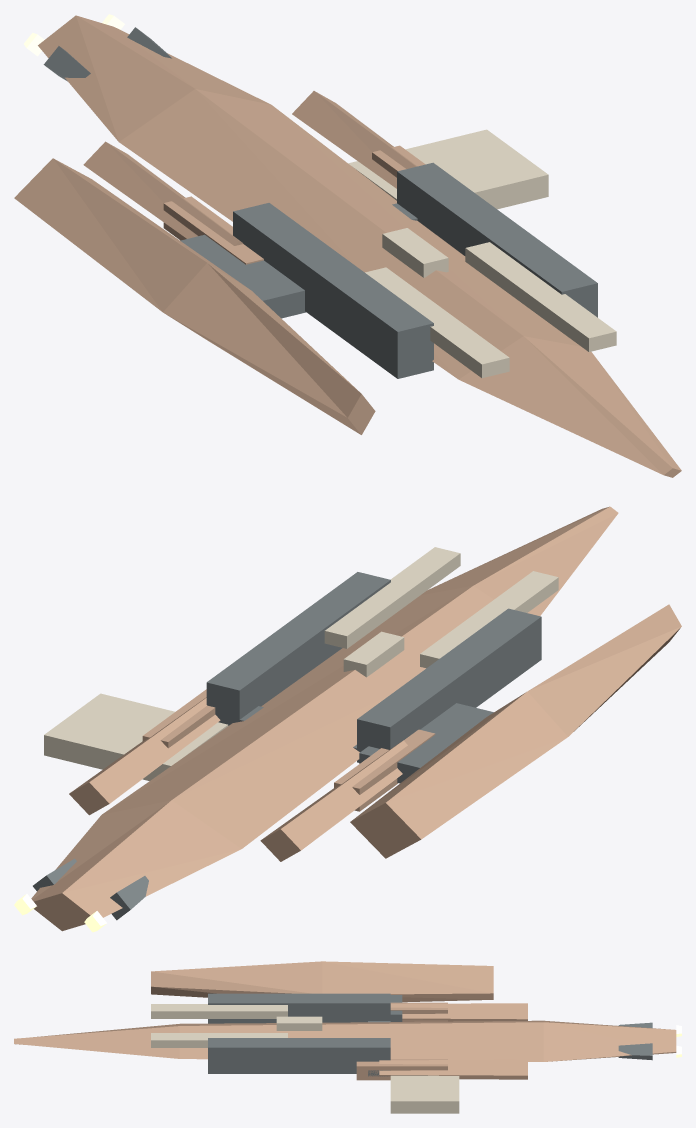
The picture shows the model from 3 angles, top to bottom: view 1: azimuth 30°, elevation 25°; view 2: azimuth 150°, elevation 25°; view 3: azimuth 270°, elevation 25°; orthographic projection. The views are drawn at different scales.
Size of the model in its own units: 5.47 by 1.02 by 12.75.
